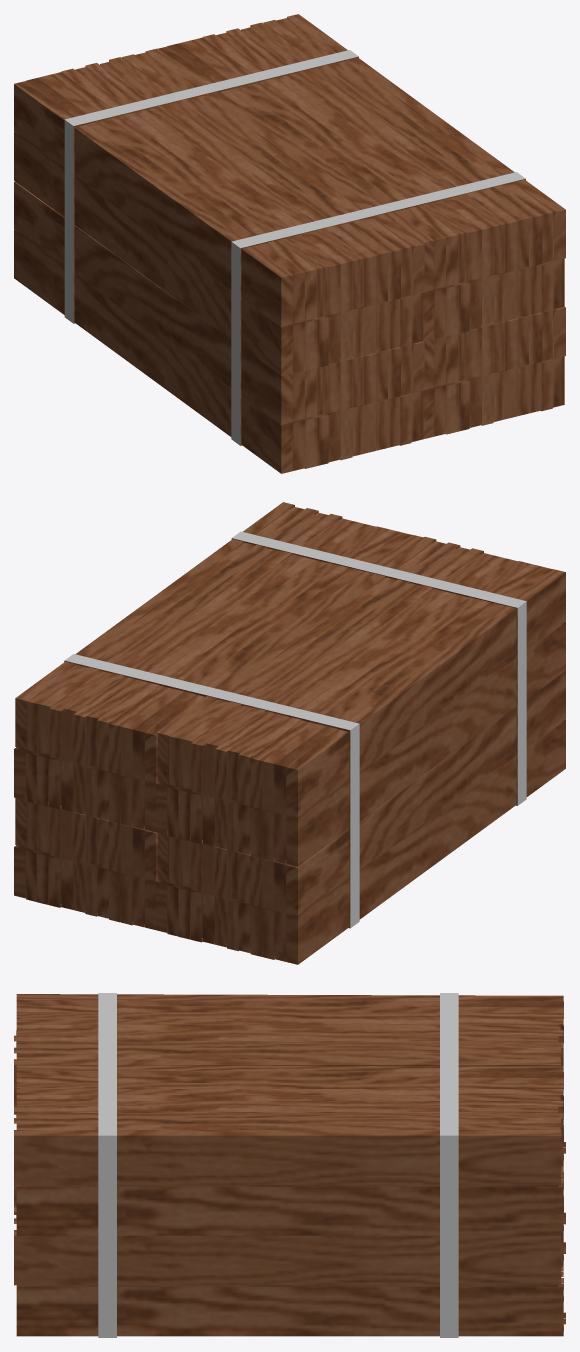
Rendered from Oak plank bundle 100.fbx.
3 views of the same model, one above another, from view 1: azimuth 30°, elevation 25°; view 2: azimuth 150°, elevation 25°; view 3: azimuth 270°, elevation 25° (orthographic). The views are drawn at different scales.
Visible parts, largest first — view 1: oak plank bundle 96; view 2: oak plank bundle 96; view 3: oak plank bundle 96.
Part boxes in pixels (left/top/right/bottom): oak plank bundle 96: left=14, top=14, right=565, bottom=473; oak plank bundle 96: left=14, top=502, right=565, bottom=964; oak plank bundle 96: left=14, top=993, right=565, bottom=1337.
Size of the model in its own units: 123 by 81.58 by 202.
